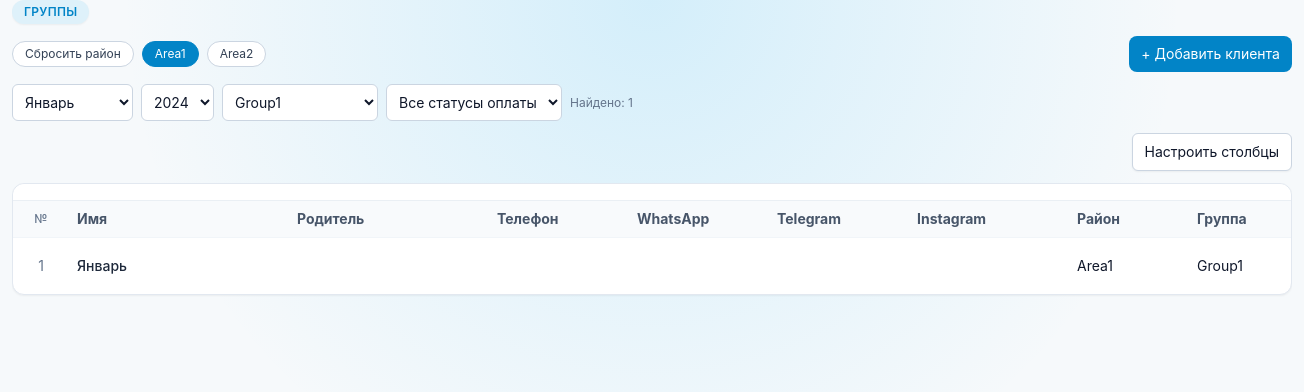
Test: filters clients by selected month
The width and height of the screenshot is (1304, 392).
Select "Январь" in the dropdown named "Фильтр по месяцу" at (72, 102), box left=12, top=84, right=133, bottom=121
Expected: the row "Февраль" is not shown
Select "Февраль" in the dropdown named "Фильтр по месяцу" at (72, 102), box left=12, top=84, right=133, bottom=121
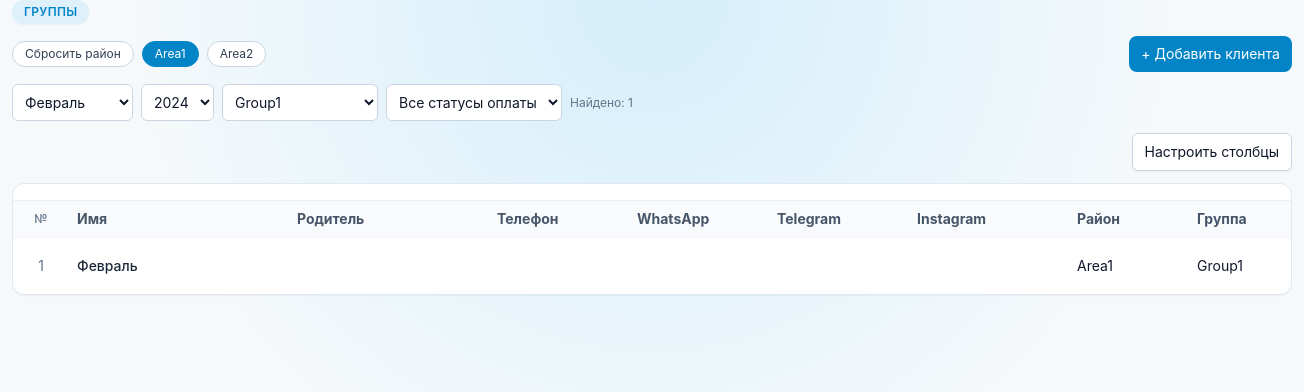
Expected: the text "Январь" is gone
